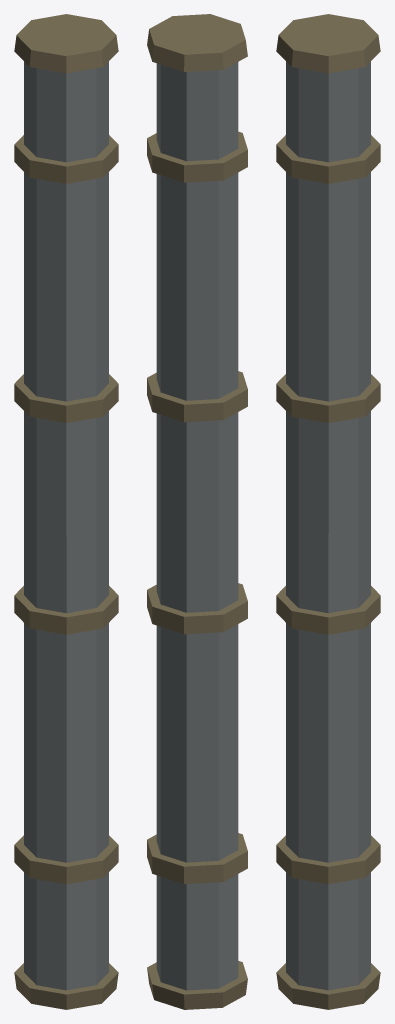
Rendered from tuberia_1.fbx.
3 views of the same model, side by side, from view 1: azimuth 90°, elevation 25°; view 2: azimuth 210°, elevation 25°; view 3: azimuth 270°, elevation 25° (orthographic).
Visible parts, largest first — view 1: Tuberia; view 2: Tuberia; view 3: Tuberia.
Part boxes in pixels (x1=…): Tuberia: x1=14, y1=14, x2=118, y2=1009; Tuberia: x1=147, y1=14, x2=247, y2=1009; Tuberia: x1=276, y1=14, x2=380, y2=1009.
Bounding box in the file's own units: 58.59 × 591 × 58.59.
